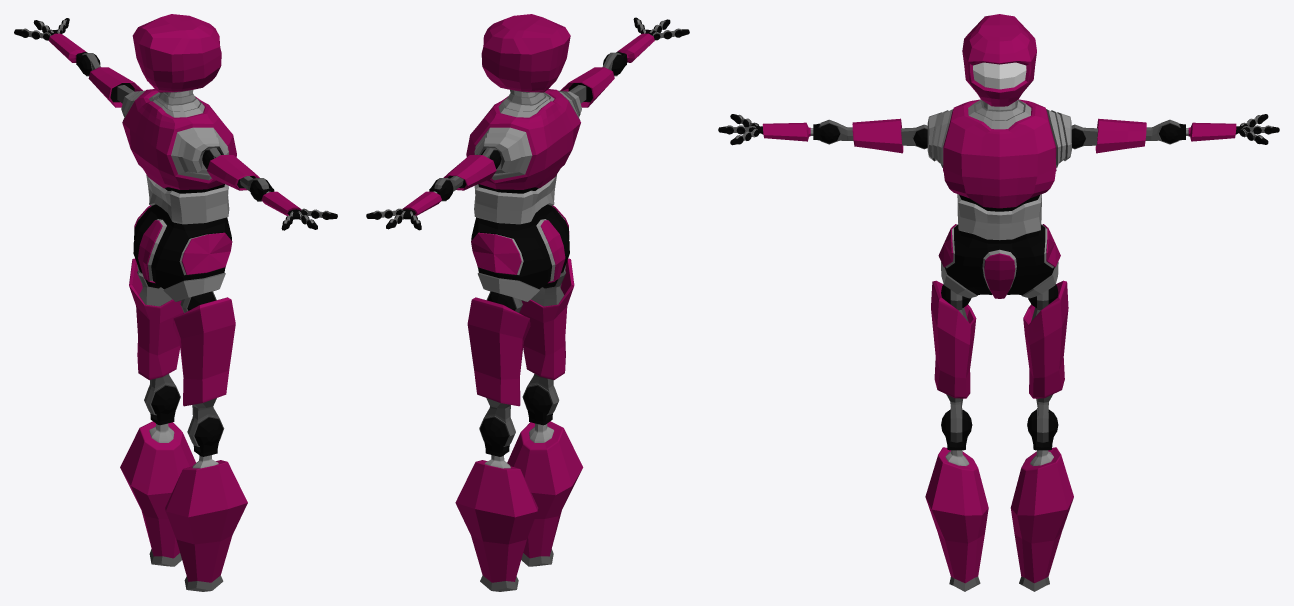
The model's file is Robot_Jose.fbx.
3 renders of one model, left to right at view 1: azimuth 30°, elevation 25°; view 2: azimuth 150°, elevation 25°; view 3: azimuth 270°, elevation 25°, orthographic.
Visible parts, largest first — view 1: Body_HeadShape; view 2: Body_HeadShape; view 3: Body_HeadShape.
Boxes of the visible parts, <box> form: Body_HeadShape: <box>14,14,337,591</box>; Body_HeadShape: <box>366,14,689,591</box>; Body_HeadShape: <box>718,14,1279,591</box>.
Size of the model in its own units: 1.96 by 12.14 by 11.09.
